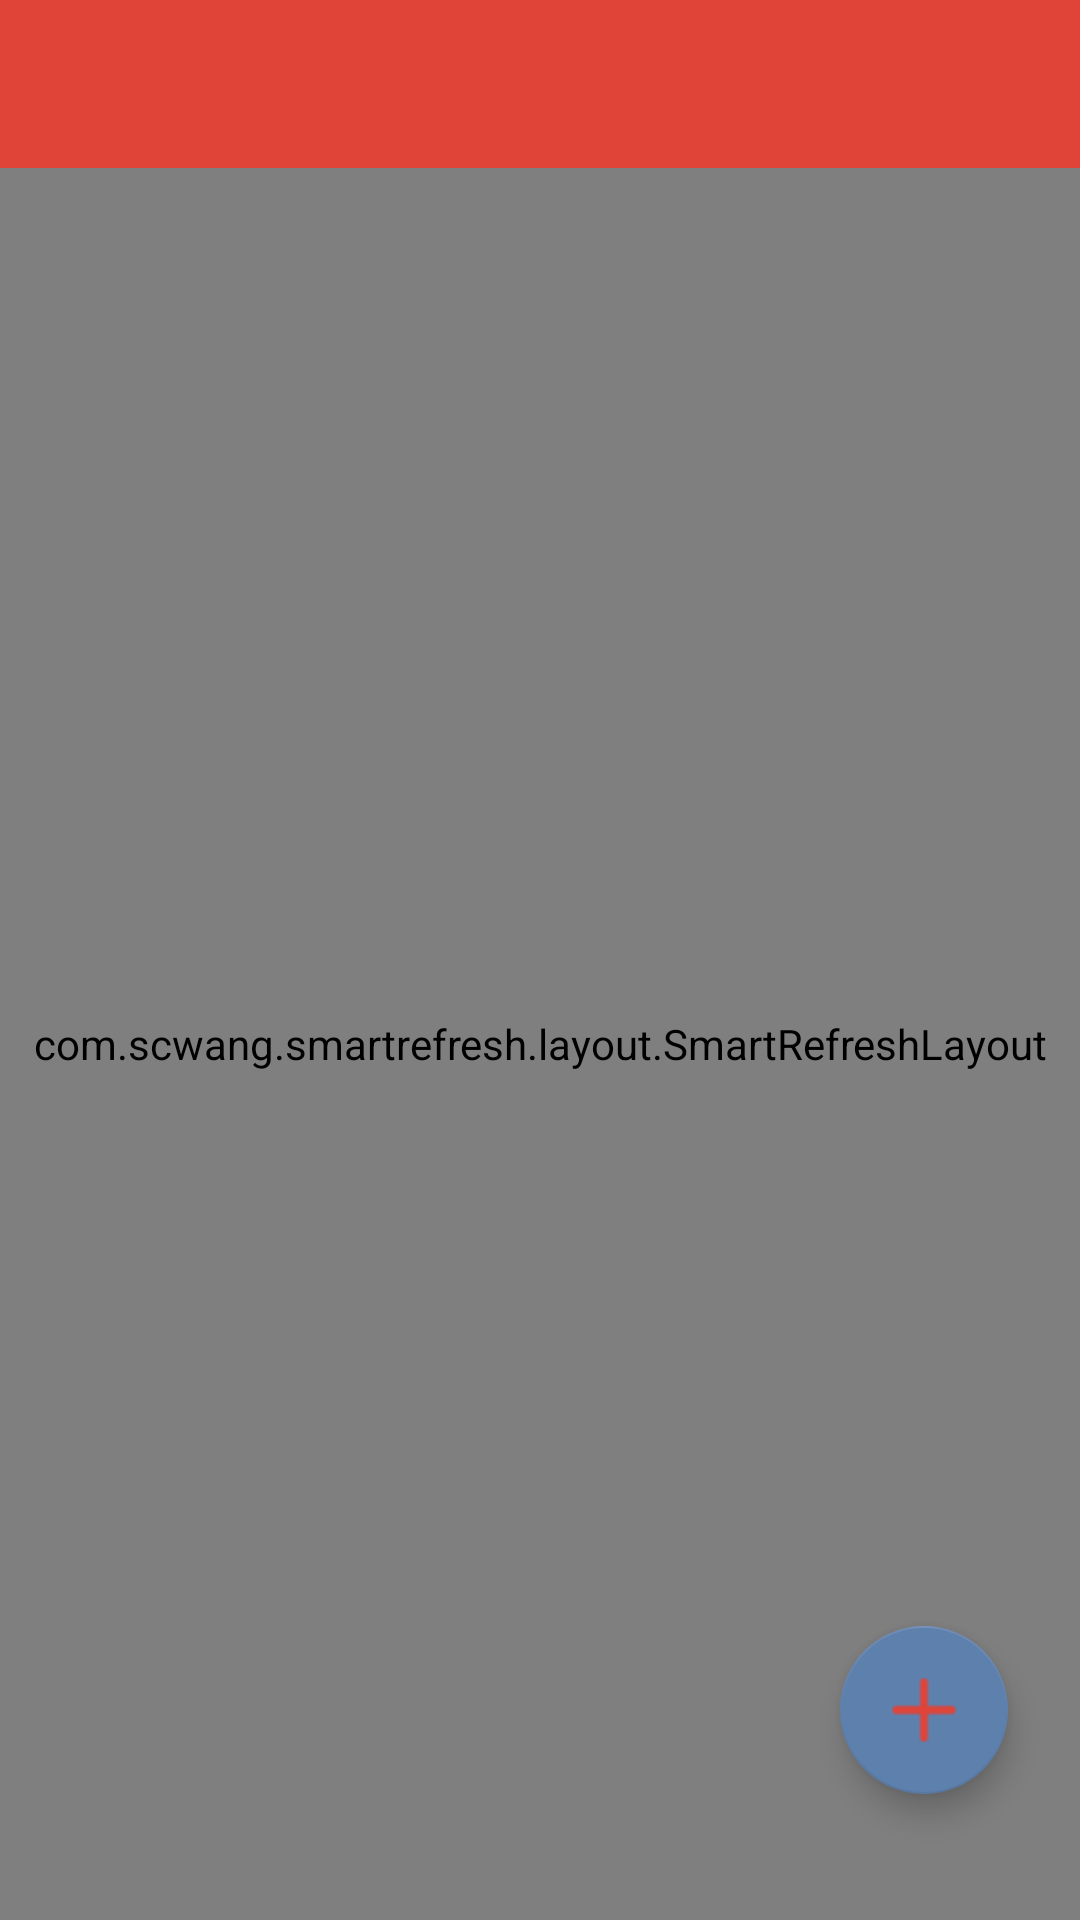

Locate icon controls on the screen. Image size 1080×1920, boxes as (x1, y1, x2, y2).
add: (840, 1626, 1008, 1794)
